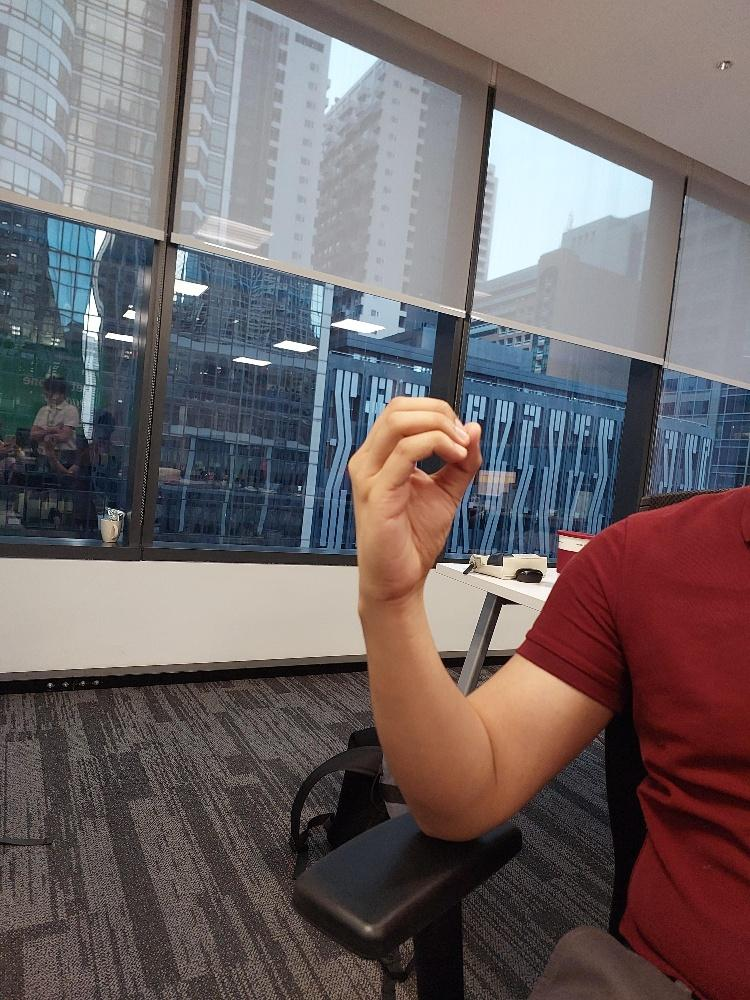o: (345, 393, 485, 604)
